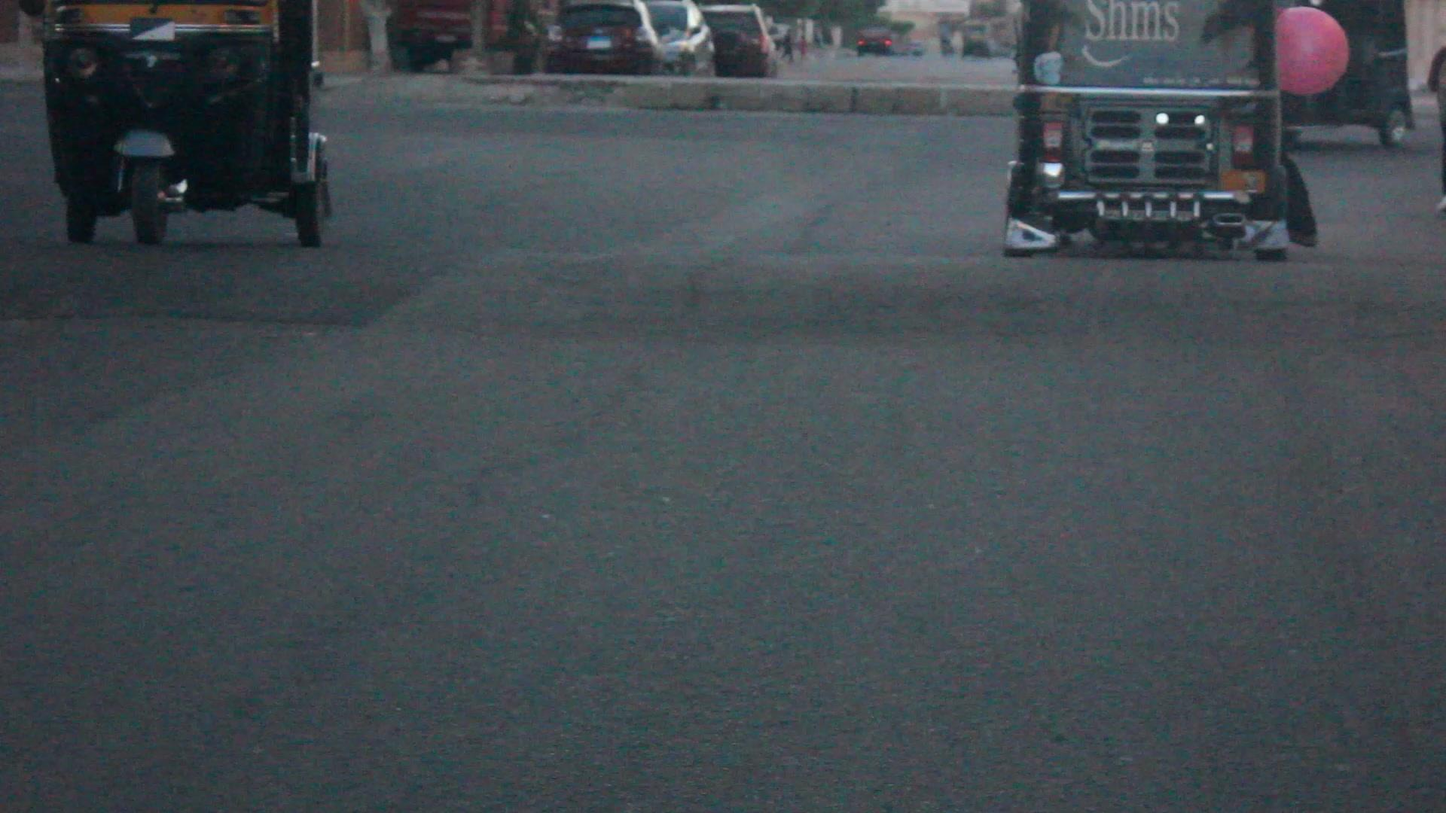Bump: (0, 213, 1446, 343)
